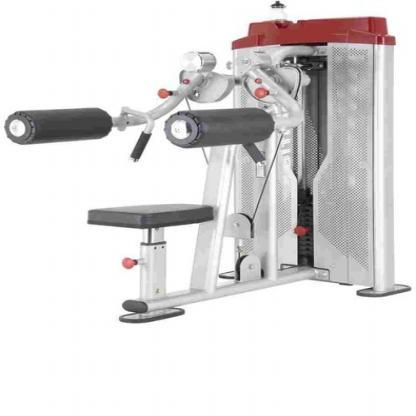lateral raises machine: (7, 18, 412, 324)
